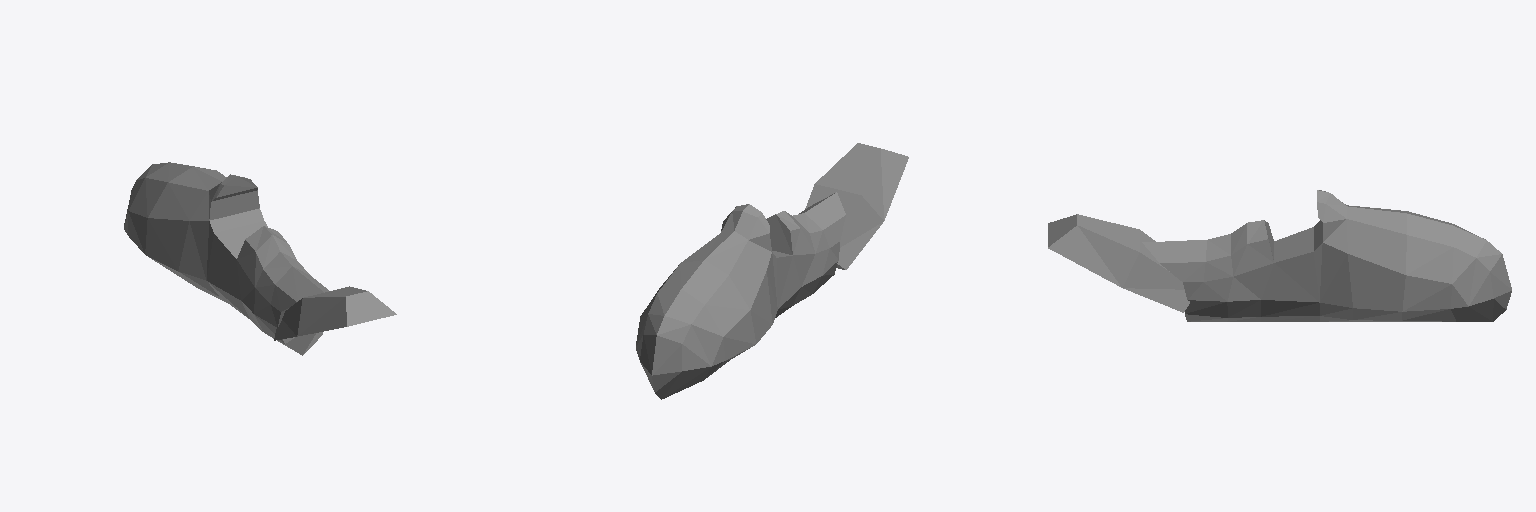
File: mag3.obj
3 views of the same model, side by side, from view 1: azimuth 30°, elevation 25°; view 2: azimuth 150°, elevation 25°; view 3: azimuth 270°, elevation 25° (orthographic).
Parts seen in each view (by area): view 1: mag3; view 2: mag3; view 3: mag3.
Boxes of the visible parts, x1,y1,x2,y2 form: mag3: [124, 162, 396, 355]; mag3: [636, 143, 908, 399]; mag3: [1048, 190, 1511, 321].
Size of the model in its own units: 3.53 by 4.48 by 14.31.